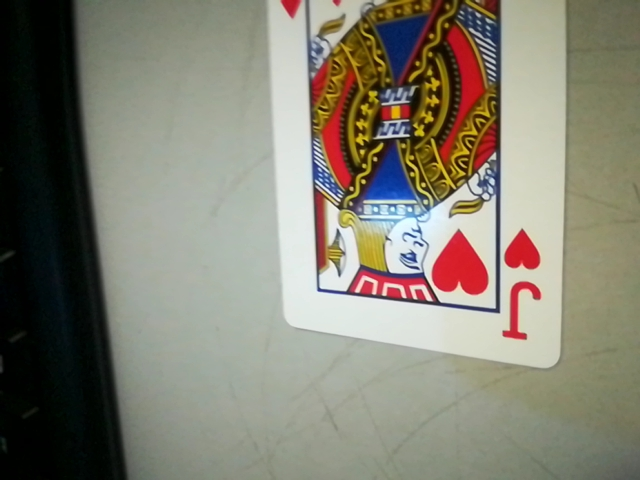hx j: (495, 225, 553, 353)
